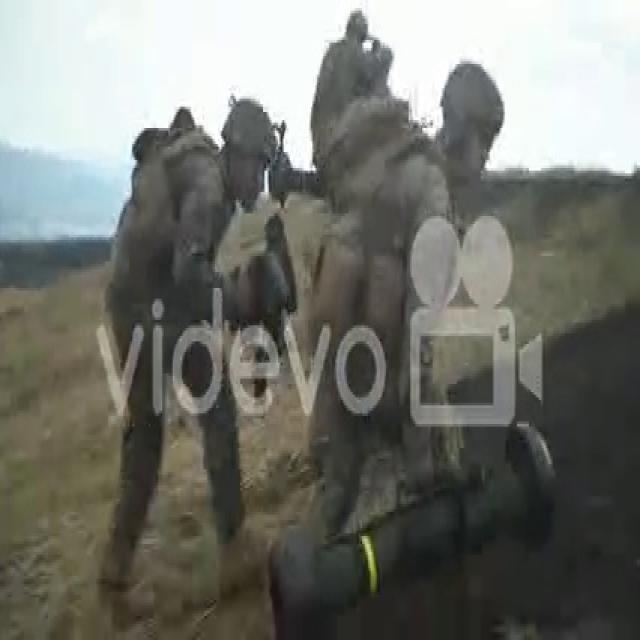bazooka: (257, 419, 560, 640)
